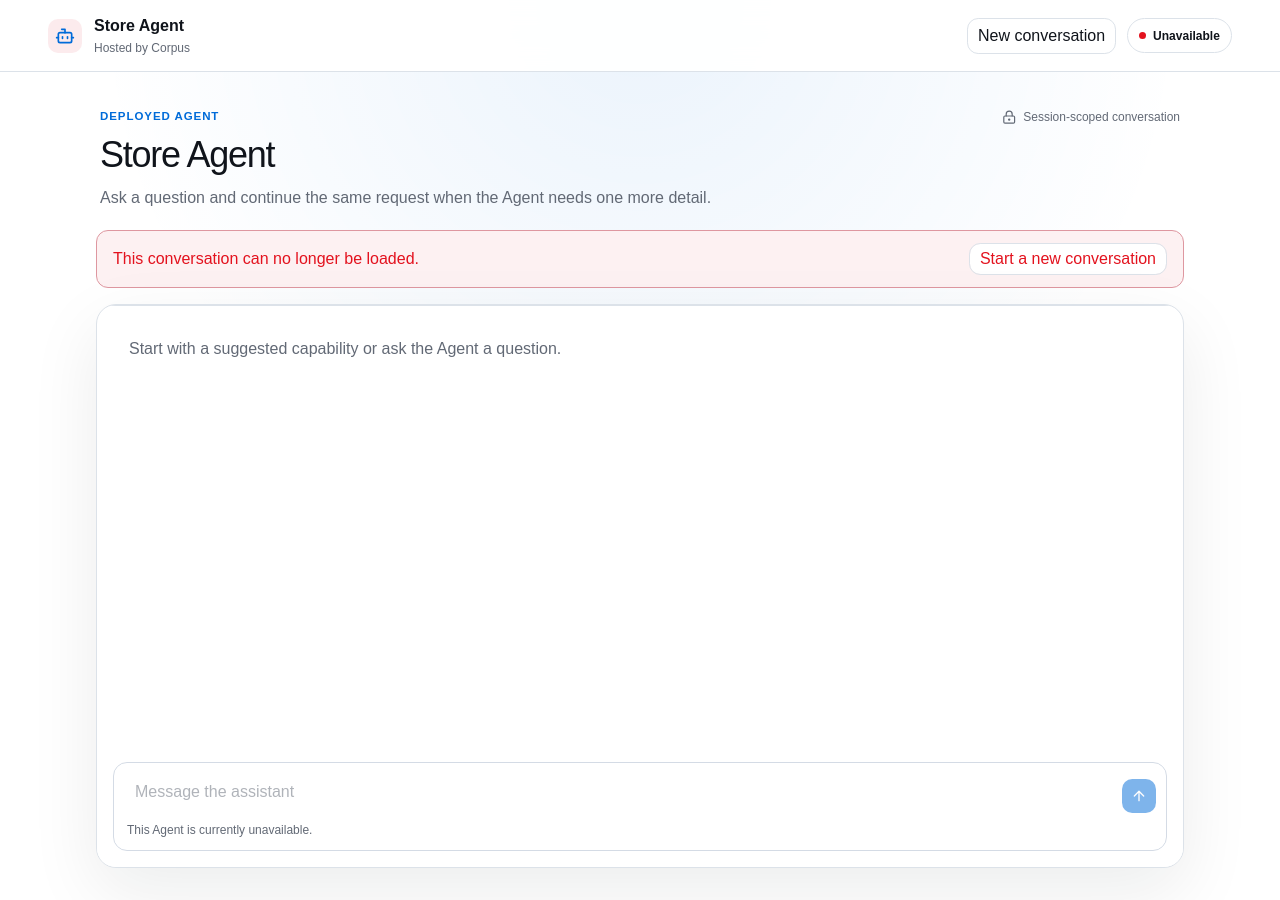
it: requires an explicit new-conversation action when a retained session cannot reload
Expected: the message reads "This conversation can no longer be loaded.", [113,250,419,267]
Click the button "Start a new conversation" at (1068, 259), box [969,243,1167,275]
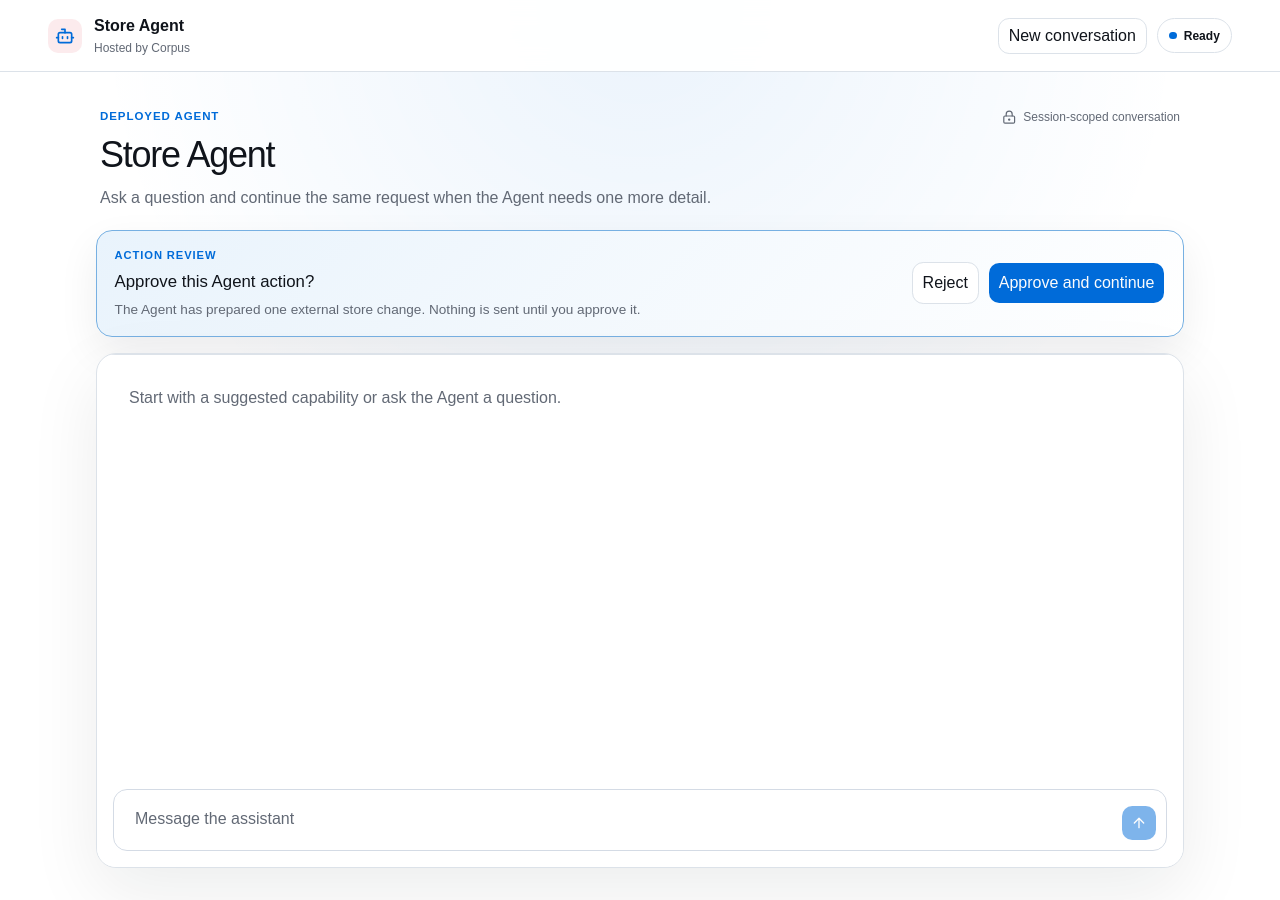
Expected: the message "This conversation can no longer be loaded." is gone
